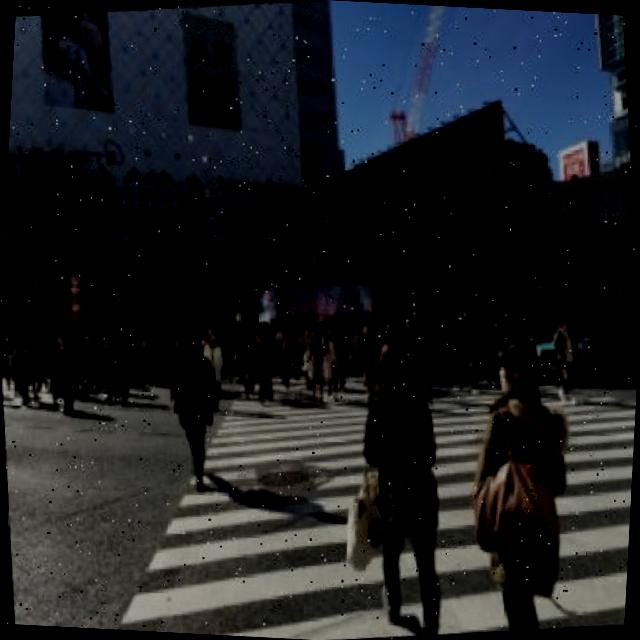Person: (457, 337, 581, 633), (346, 334, 463, 640), (162, 326, 228, 496), (248, 324, 282, 404), (300, 328, 332, 403)
